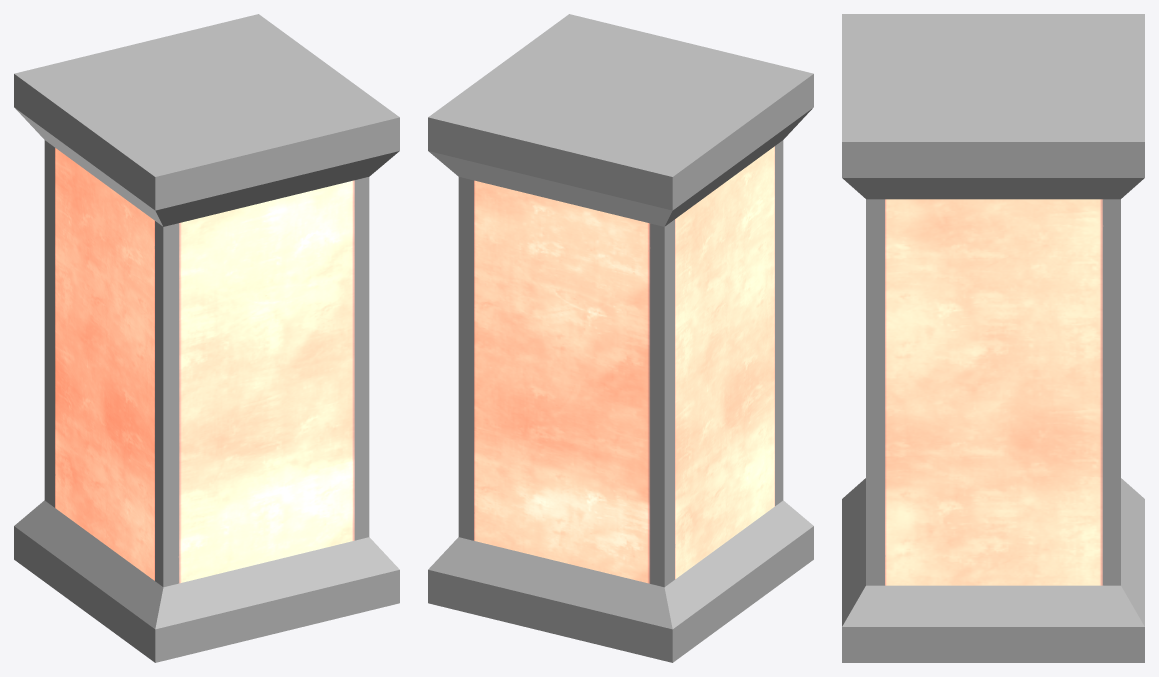
The model's file is blockerMesh.fbx.
3 renders of one model, left to right at view 1: azimuth 30°, elevation 25°; view 2: azimuth 150°, elevation 25°; view 3: azimuth 270°, elevation 25°, orthographic. The views are drawn at different scales.
Visible parts, largest first — view 1: polySurface1; view 2: polySurface1; view 3: polySurface1.
Boxes of the visible parts, x1,y1,x2,y2 form: polySurface1: [14, 14, 399, 662]; polySurface1: [428, 14, 813, 662]; polySurface1: [842, 14, 1144, 662].
Size of the model in its own units: 66.4 by 126 by 66.4.
